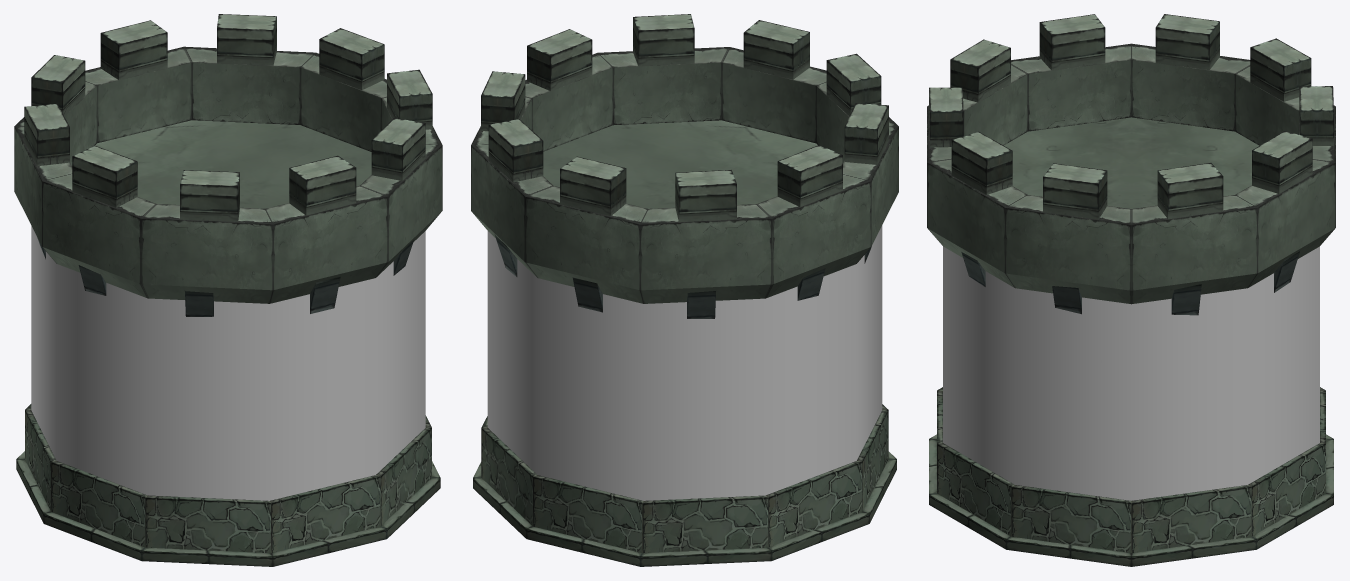
File: 2_YiZhan_DiaoBao_01.FBX
3 views of the same model, side by side, from view 1: azimuth 30°, elevation 25°; view 2: azimuth 150°, elevation 25°; view 3: azimuth 270°, elevation 25° (orthographic).
Parts seen in each view (by area): view 1: 2_YiZhan_DiaoBao_03, 2_YiZhan_DiaoBao_02, 2_YiZhan_DiaoBao_01; view 2: 2_YiZhan_DiaoBao_03, 2_YiZhan_DiaoBao_02, 2_YiZhan_DiaoBao_01; view 3: 2_YiZhan_DiaoBao_03, 2_YiZhan_DiaoBao_02, 2_YiZhan_DiaoBao_01.
Part boxes in pixels (<box>): 2_YiZhan_DiaoBao_03: <box>14,14,442,316</box>; 2_YiZhan_DiaoBao_02: <box>31,226,425,500</box>; 2_YiZhan_DiaoBao_01: <box>16,404,440,566</box>; 2_YiZhan_DiaoBao_03: <box>471,14,898,318</box>; 2_YiZhan_DiaoBao_02: <box>487,225,882,500</box>; 2_YiZhan_DiaoBao_01: <box>473,404,896,566</box>; 2_YiZhan_DiaoBao_03: <box>927,14,1335,315</box>; 2_YiZhan_DiaoBao_02: <box>943,246,1319,500</box>; 2_YiZhan_DiaoBao_01: <box>929,387,1333,566</box>.
Size of the model in its own units: 734 by 713 by 698.
